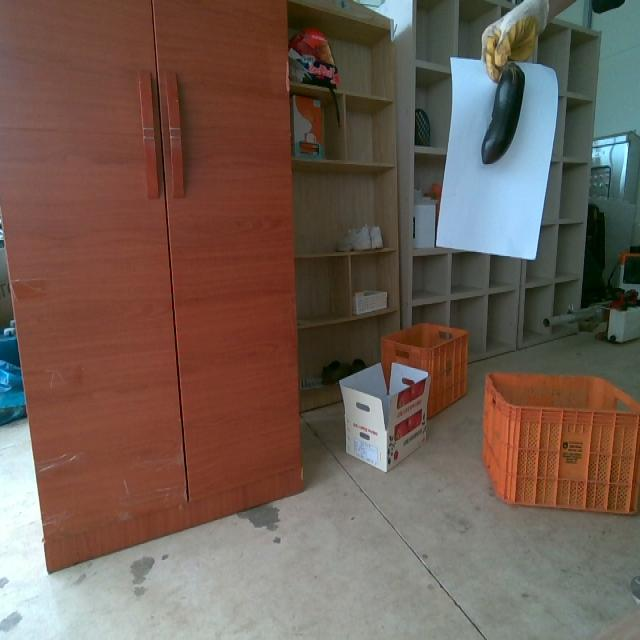Egg plant: (481, 63, 524, 163)
